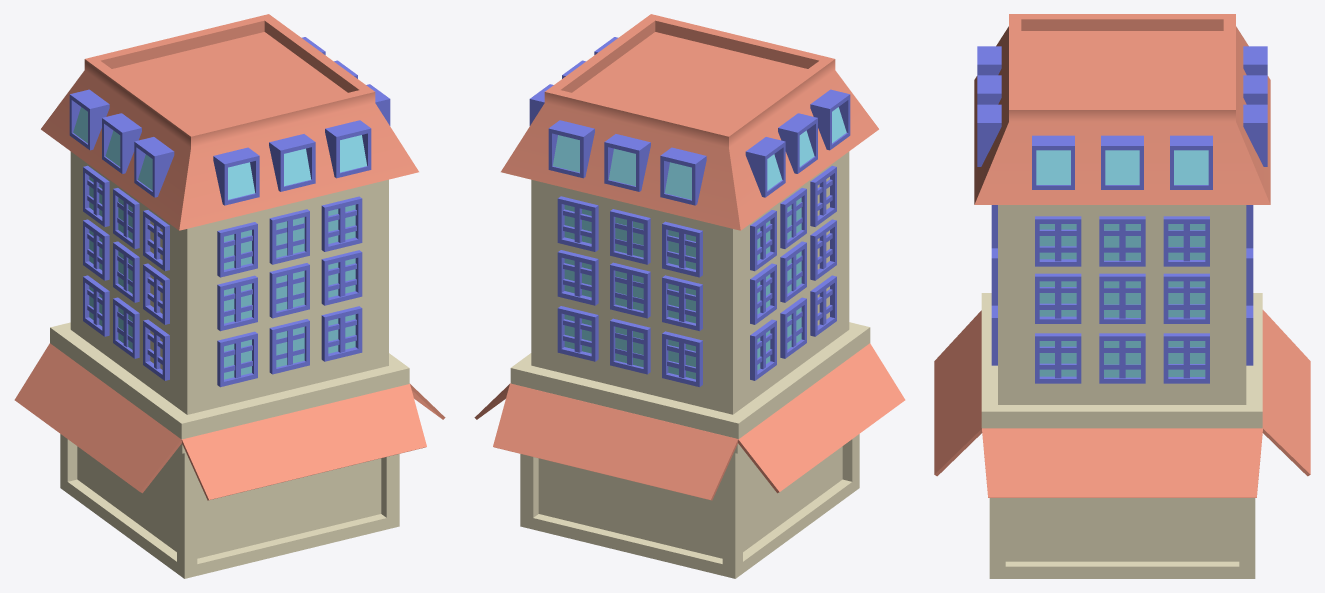
File: Building 4.fbx
3 views of the same model, side by side, from view 1: azimuth 30°, elevation 25°; view 2: azimuth 150°, elevation 25°; view 3: azimuth 270°, elevation 25° (orthographic). The views are drawn at different scales.
Visible parts, largest first — view 1: building.029, building.025, building.026, building.027, building.028, building.024; view 2: building.029, building.025, building.026, building.027, building.028, building.024; view 3: building.025, building.029, building.027, building.026, building.028, building.024.
Part boxes in pixels (x1=…): building.029: x1=50, y1=151, x2=409, y2=439; building.025: x1=41, y1=14, x2=418, y2=230; building.026: x1=83, y1=165, x2=362, y2=387; building.027: x1=14, y1=343, x2=445, y2=500; building.028: x1=60, y1=434, x2=399, y2=578; building.024: x1=69, y1=37, x2=390, y2=205; building.029: x1=510, y1=151, x2=870, y2=439; building.025: x1=501, y1=14, x2=878, y2=230; building.026: x1=557, y1=165, x2=836, y2=387; building.027: x1=474, y1=343, x2=905, y2=500; building.028: x1=520, y1=434, x2=859, y2=578; building.024: x1=529, y1=37, x2=850, y2=205; building.025: x1=974, y1=14, x2=1270, y2=204; building.029: x1=981, y1=205, x2=1262, y2=428; building.027: x1=934, y1=310, x2=1310, y2=497; building.026: x1=991, y1=205, x2=1253, y2=383; building.028: x1=989, y1=498, x2=1255, y2=578; building.024: x1=977, y1=46, x2=1267, y2=189.
Bounding box in the file's own units: 184 × 248 × 184.
